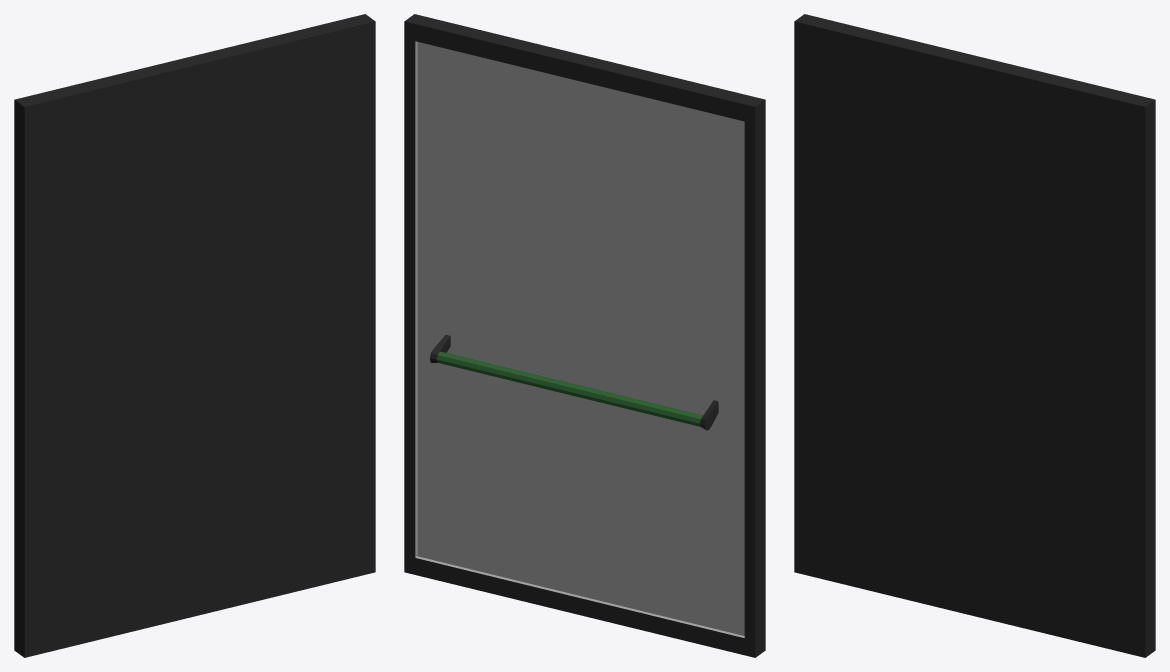
The model's file is PuertaGrande.fbx.
The picture shows the model from 3 angles, left to right: view 1: azimuth 30°, elevation 25°; view 2: azimuth 150°, elevation 25°; view 3: azimuth 330°, elevation 25°; orthographic projection.
Visible parts, largest first — view 1: Cube; view 2: Cube, Cylinder; view 3: Cube.
Boxes of the visible parts, x1=… form: Cube: x1=14, y1=14, x2=375, y2=657; Cube: x1=404, y1=14, x2=765, y2=657; Cylinder: x1=430, y1=334, x2=718, y2=430; Cube: x1=794, y1=14, x2=1155, y2=657.
Bounding box in the file's own units: 200 × 300 × 22.3.
